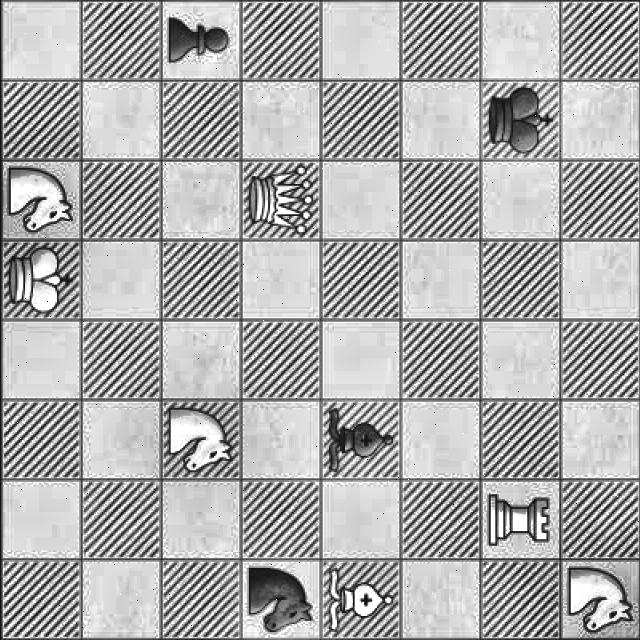Black Knight: (244, 562, 314, 634)
black bishop: (322, 404, 398, 477)
black king: (482, 83, 556, 158)
black pawn: (165, 10, 239, 75)
white bishop: (325, 566, 391, 636)
white king: (0, 245, 80, 318)
white queen: (245, 162, 318, 240)
white rook: (476, 488, 554, 552)
whiteknight: (163, 404, 233, 478), (560, 564, 632, 634), (0, 167, 76, 231)
